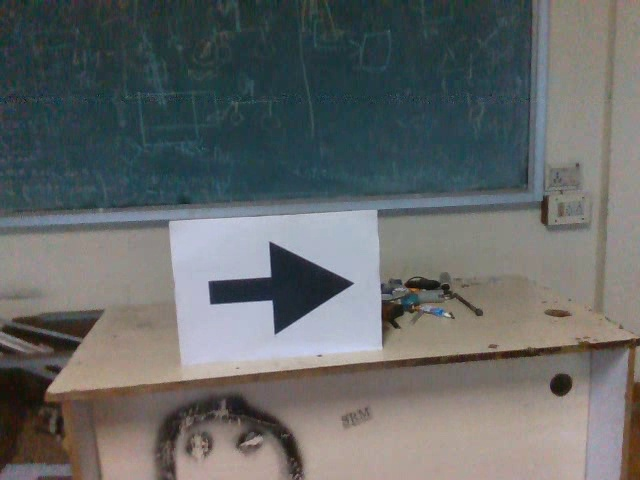Right: (196, 235, 359, 340)
